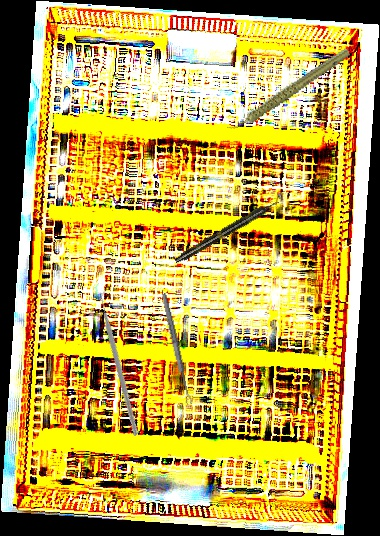Chopper: (46, 285, 198, 437)
Handpiece: (215, 46, 361, 133), (172, 197, 282, 266)
Surgical Spoon: (160, 292, 193, 406)
